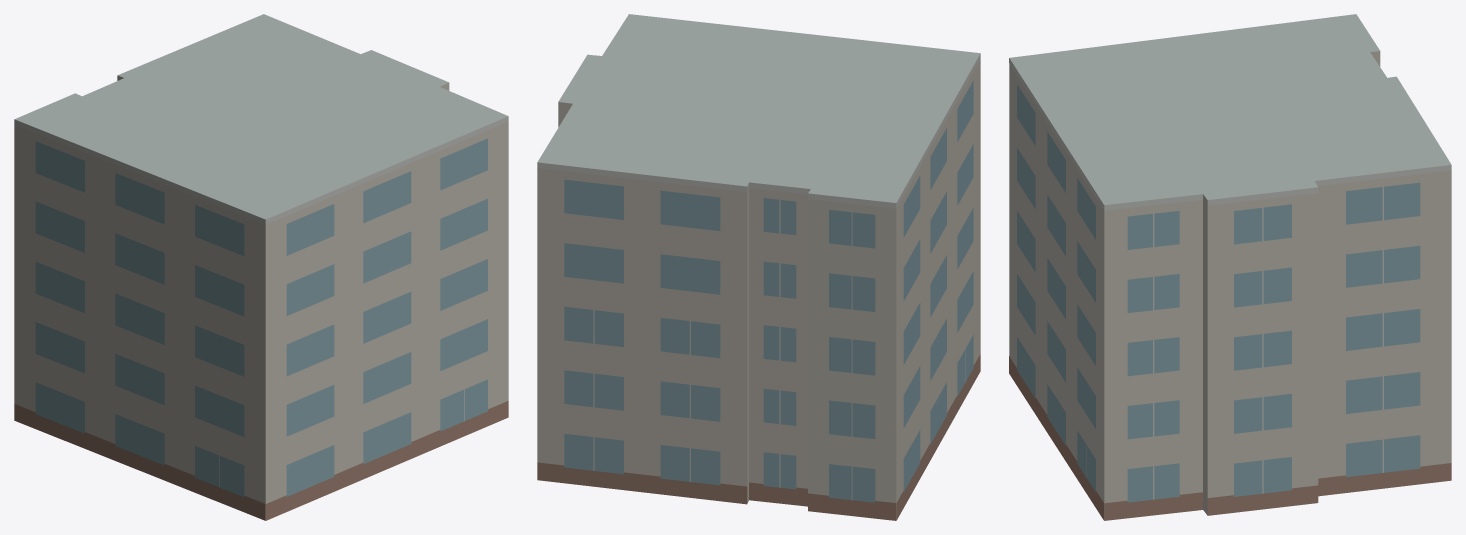
File: survey-upis-32964259.glb
The picture shows the model from 3 angles, left to right: view 1: azimuth 30°, elevation 25°; view 2: azimuth 150°, elevation 25°; view 3: azimuth 270°, elevation 25°; orthographic projection. The views are drawn at different scales.
Parts seen in each view (by area): view 1: survey-upis-32964259.tmp; view 2: survey-upis-32964259.tmp; view 3: survey-upis-32964259.tmp.
Boxes of the visible parts, x1,y1,x2,y2 form: survey-upis-32964259.tmp: (14,14,508,520); survey-upis-32964259.tmp: (537,14,980,520); survey-upis-32964259.tmp: (1009,14,1451,520).
Size of the model in its own units: 17.87 by 13.75 by 17.48.
